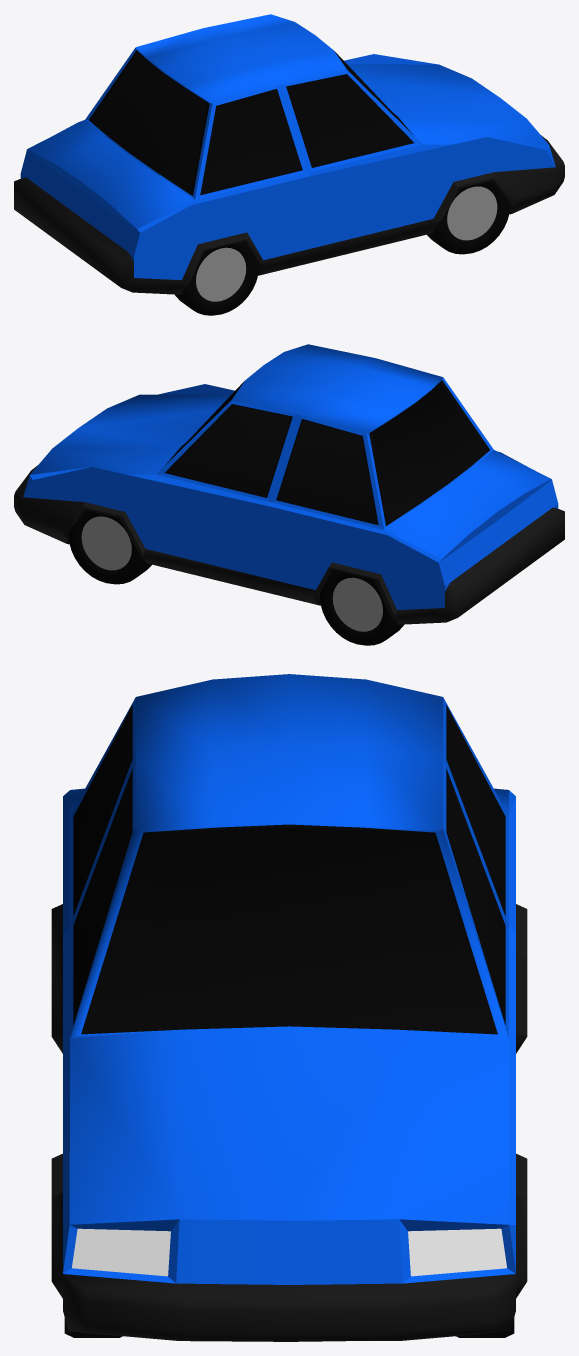
The model's file is Car.obj.
The picture shows the model from 3 angles, top to bottom: view 1: azimuth 30°, elevation 25°; view 2: azimuth 150°, elevation 25°; view 3: azimuth 270°, elevation 25°; orthographic projection. The views are drawn at different scales.
Visible parts, largest first — view 1: Car_Cube; view 2: Car_Cube; view 3: Car_Cube.
Part boxes in pixels (bbox=[...]): Car_Cube: bbox=[14, 14, 564, 315]; Car_Cube: bbox=[14, 344, 564, 645]; Car_Cube: bbox=[51, 674, 527, 1341].
Size of the model in its own units: 4.66 by 2.02 by 2.1.
